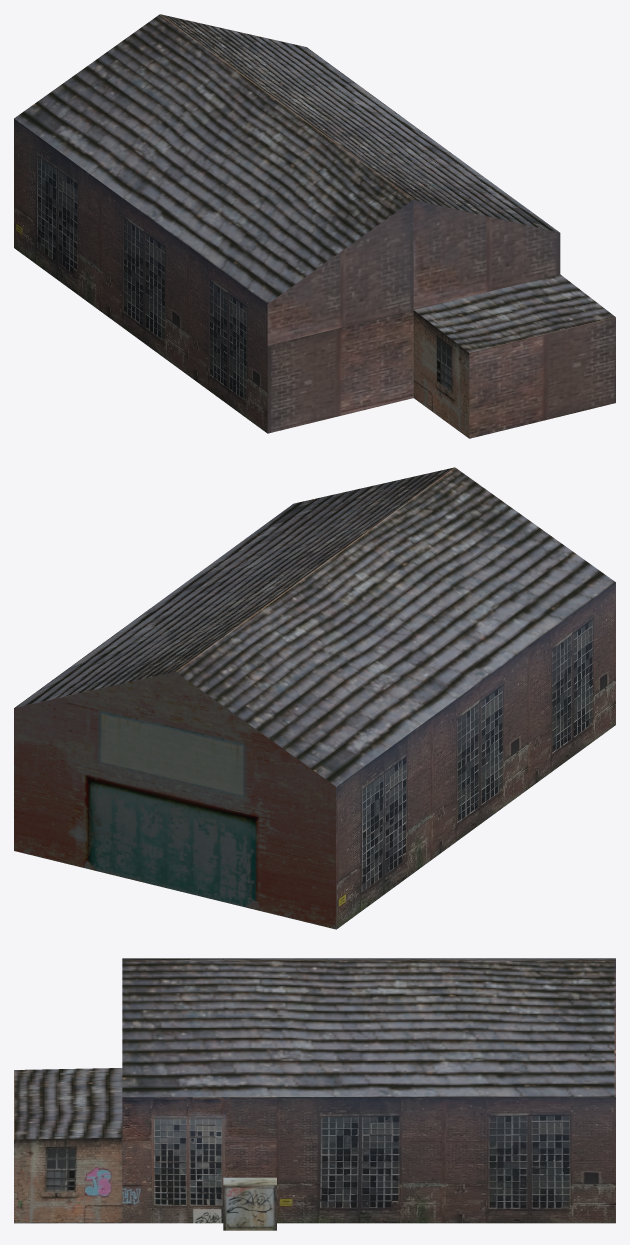
File: warehouse.fbx
3 renders of one model, top to bottom at view 1: azimuth 30°, elevation 25°; view 2: azimuth 150°, elevation 25°; view 3: azimuth 270°, elevation 25°, orthographic. The views are drawn at different scales.
Parts seen in each view (by area): view 1: Cube; view 2: Cube; view 3: Cube.
Boxes of the visible parts, left/top/right/bottom form: Cube: left=14, top=14, right=615, bottom=438; Cube: left=14, top=467, right=615, bottom=929; Cube: left=14, top=958, right=615, bottom=1230.
Size of the model in its own units: 2679 by 1644 by 4650.
